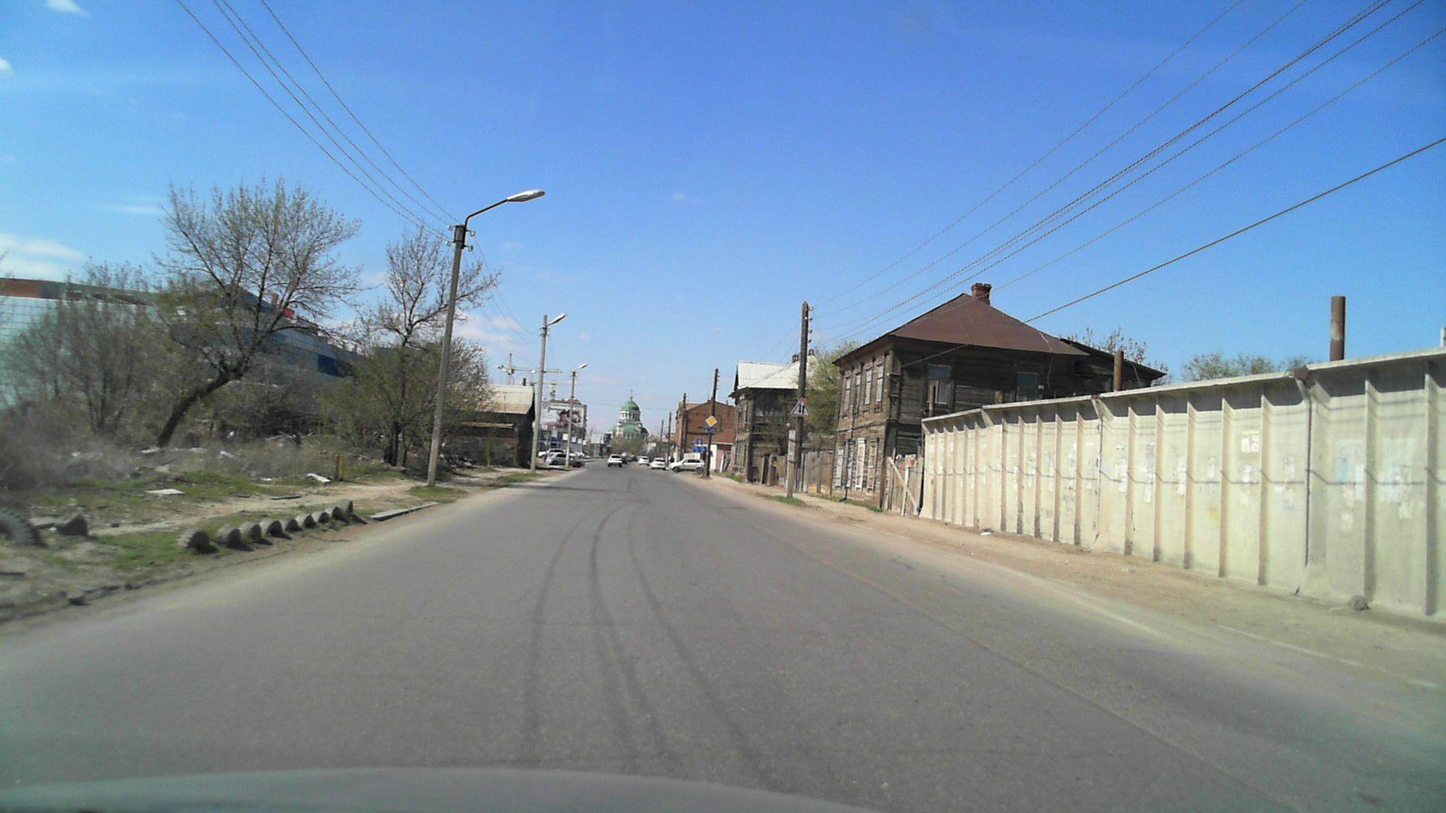road_sign: (790, 397, 811, 417), (705, 415, 717, 428)
